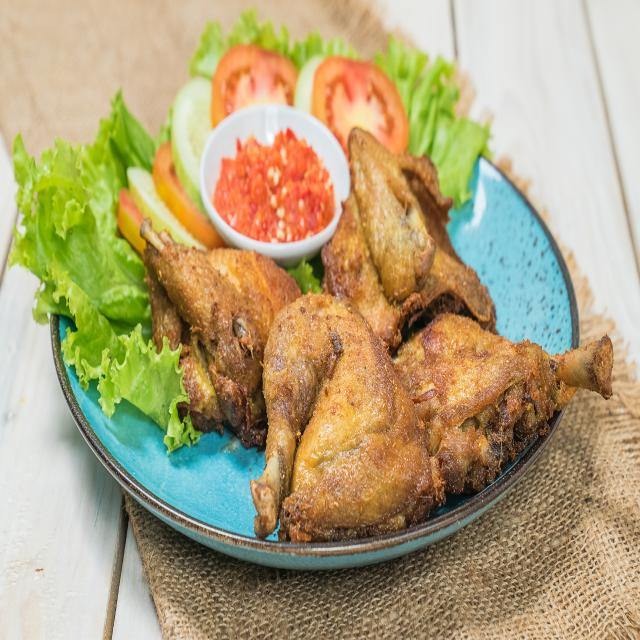Frango: (388, 282, 619, 500), (120, 194, 306, 458), (255, 296, 449, 545)
